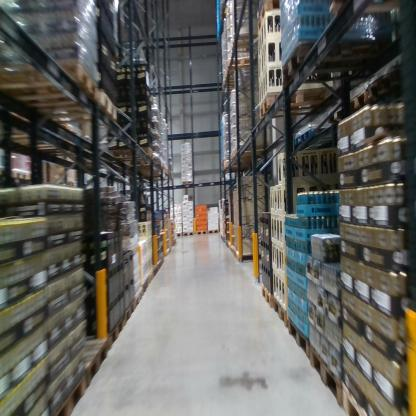pallet: (52, 313, 122, 416), (3, 56, 102, 110), (276, 43, 388, 83), (255, 85, 339, 123), (38, 89, 121, 126), (66, 335, 108, 391), (309, 343, 342, 410), (342, 378, 373, 414), (366, 73, 404, 101), (338, 87, 368, 122), (286, 317, 309, 362), (328, 3, 411, 14), (235, 245, 277, 266), (104, 145, 157, 161), (271, 293, 287, 335), (229, 145, 264, 164), (225, 56, 261, 74), (258, 278, 276, 313), (295, 126, 317, 151), (121, 294, 138, 324), (131, 284, 145, 305), (207, 225, 219, 236), (182, 229, 195, 238), (182, 178, 194, 187), (195, 228, 207, 236), (176, 230, 182, 237)
